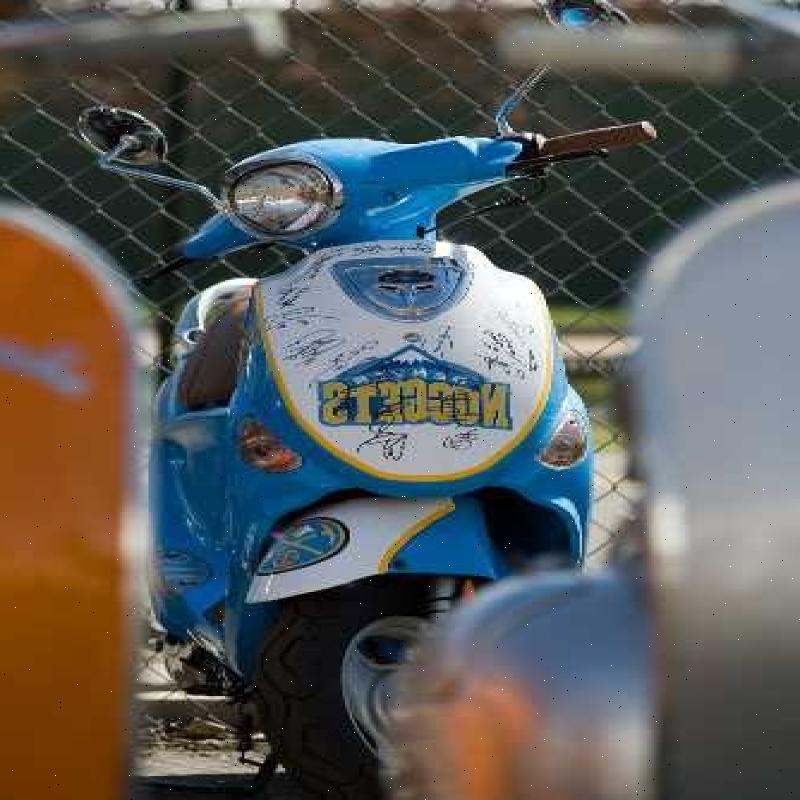bike: (107, 59, 626, 759)
